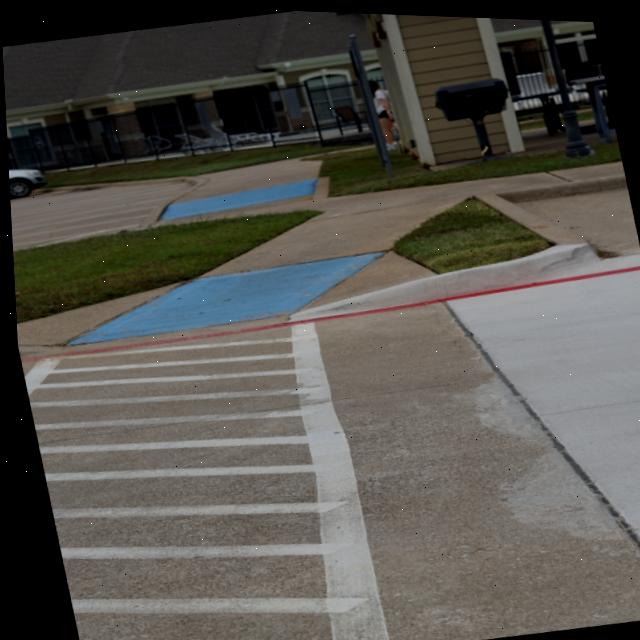Automobile: (7, 169, 45, 199)
Obstacle: (541, 16, 592, 154), (349, 32, 393, 176), (434, 74, 508, 154)
Road: (18, 251, 640, 640), (8, 181, 189, 250), (520, 183, 639, 252)
Sidewalk: (13, 156, 623, 347)
